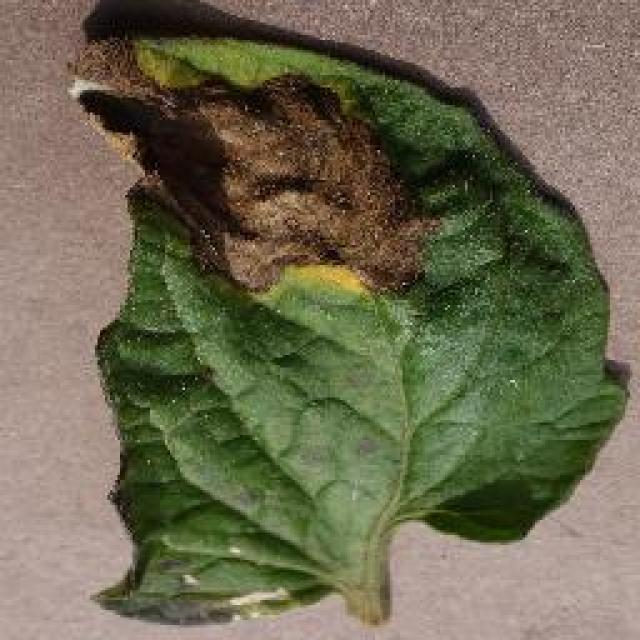Tomato Late Blight: (65, 28, 457, 322)
